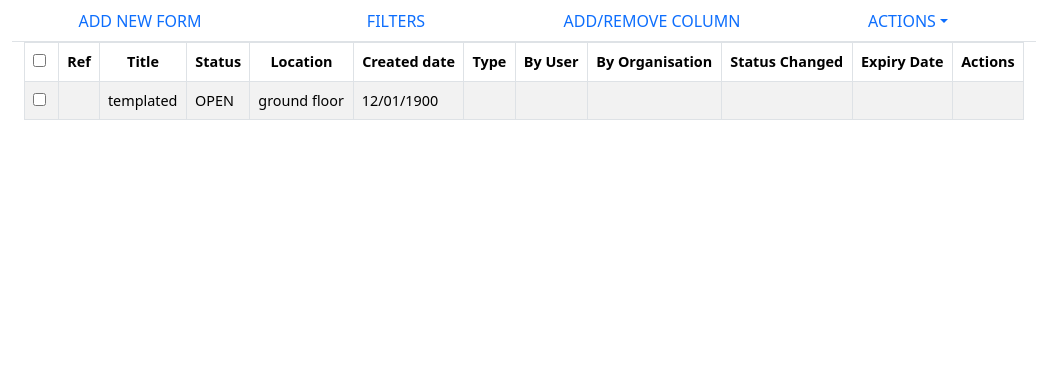
Display filters window
The width and height of the screenshot is (1048, 392).
Click the button "FILTERS": (396, 21) [367, 10, 425, 32]
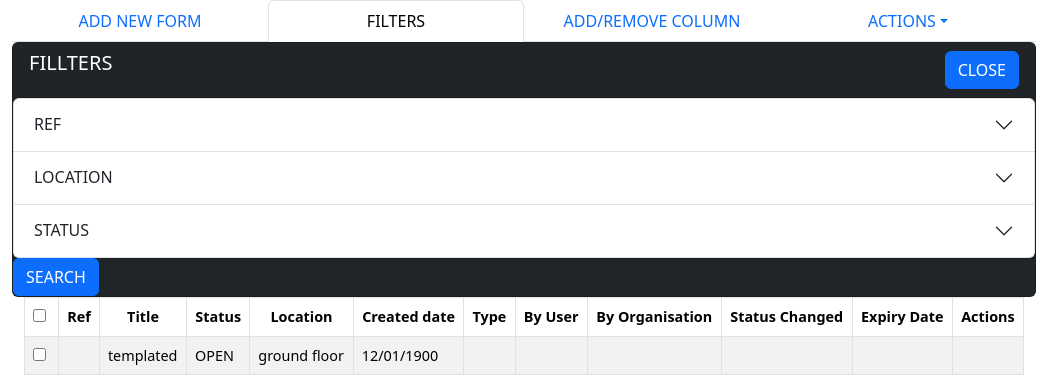
Check: the button "SEARCH" is shown, box [13, 258, 99, 296]
